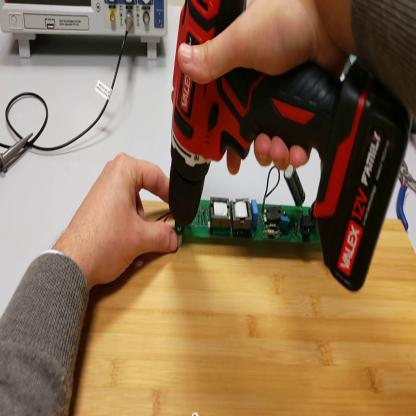electric screwdriver: (170, 1, 412, 292)
hand: (179, 2, 351, 178), (67, 154, 178, 288)
high voltage board: (156, 161, 325, 242)
oscilloscope: (1, 1, 169, 65)
oscilloscope probe tip: (2, 132, 34, 177)
pliers: (393, 162, 416, 237)
working area: (70, 199, 416, 414)
